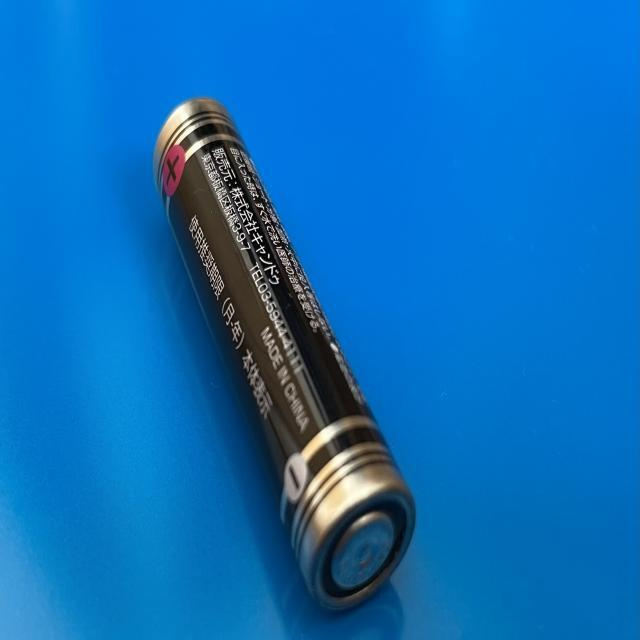hazardous waste: (152, 92, 418, 614)
